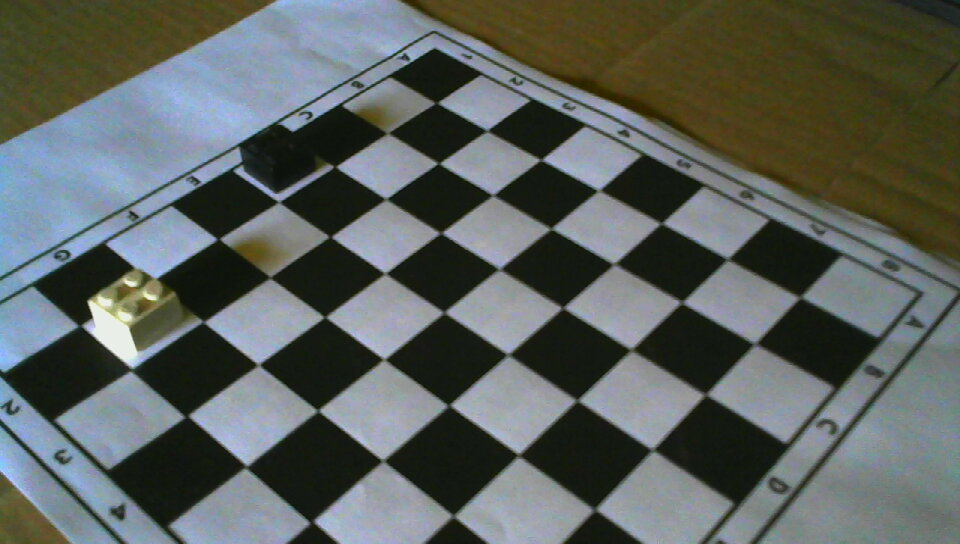bp: (240, 125, 315, 190)
wp: (84, 265, 184, 350)
